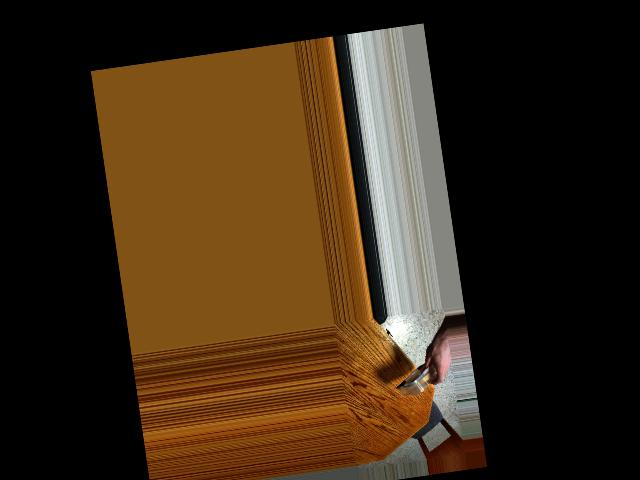cheese: (400, 344, 450, 407)
